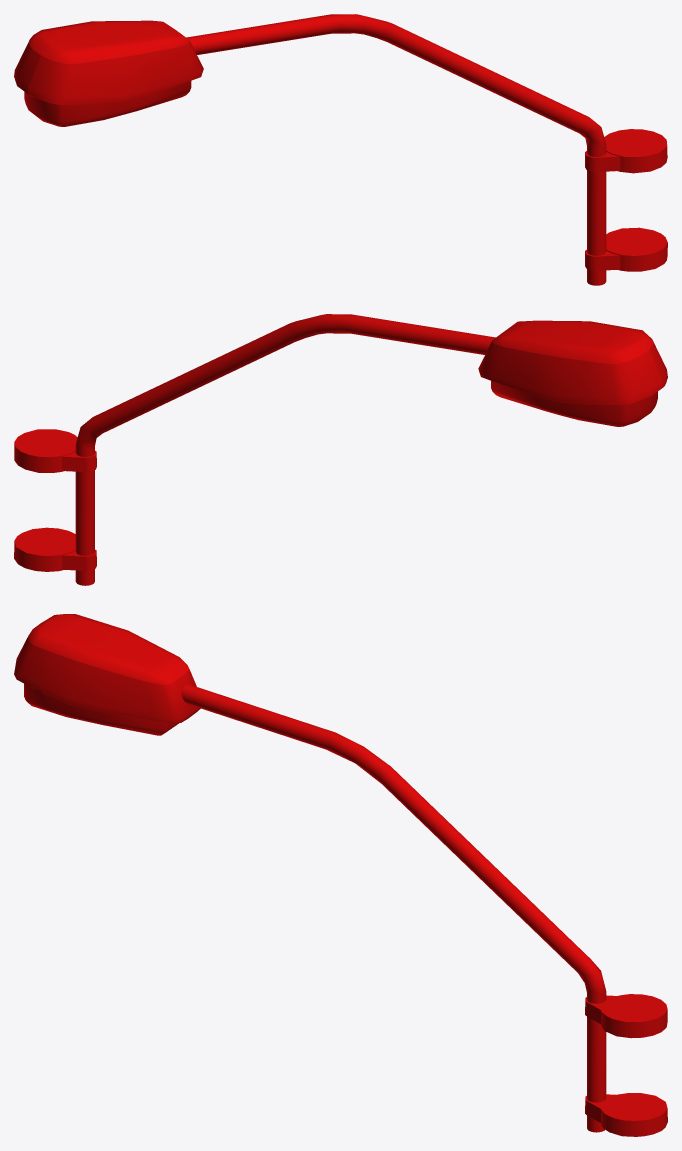
3 renders of one model, top to bottom at view 1: azimuth 30°, elevation 25°; view 2: azimuth 150°, elevation 25°; view 3: azimuth 330°, elevation 25°, orthographic.
Parts seen in each view (by area): view 1: Mesh; view 2: Mesh; view 3: Mesh.
Part boxes in pixels (x1,y1,x2,y2): Mesh: (14,14,667,285); Mesh: (14,314,667,585); Mesh: (14,614,667,1136).
Size of the model in its own units: 3.13 by 1.75 by 0.4512.
